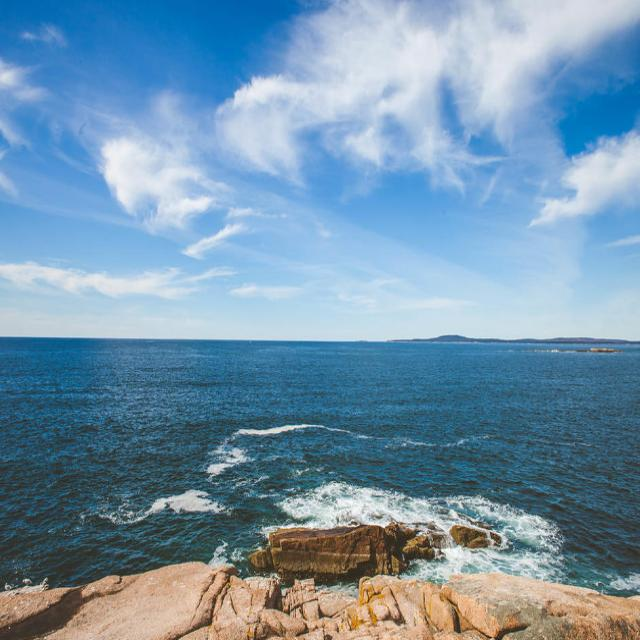reef: (186, 495, 494, 626)
